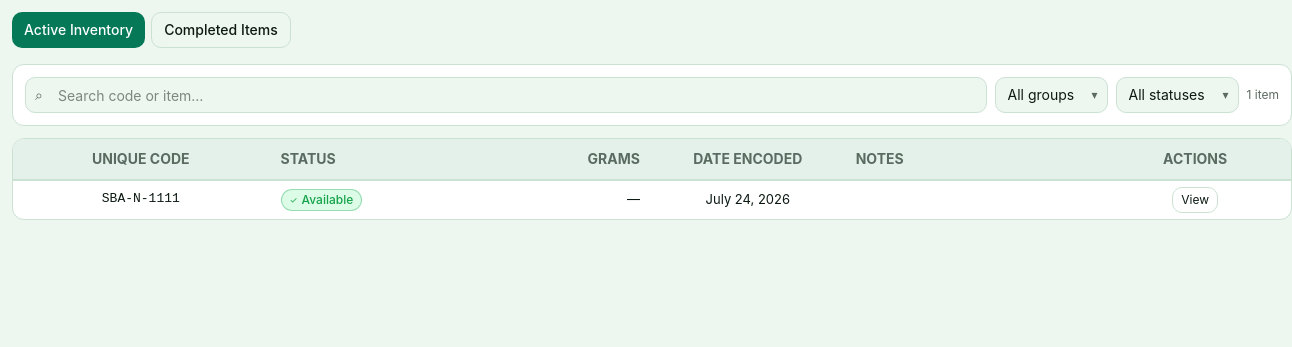
Test: Inventory — Active vs Completed › Completed Items shows the sold/released items (historical)
Step 1. Click the tab "Completed Items" → (221, 30), box [151, 12, 291, 48]
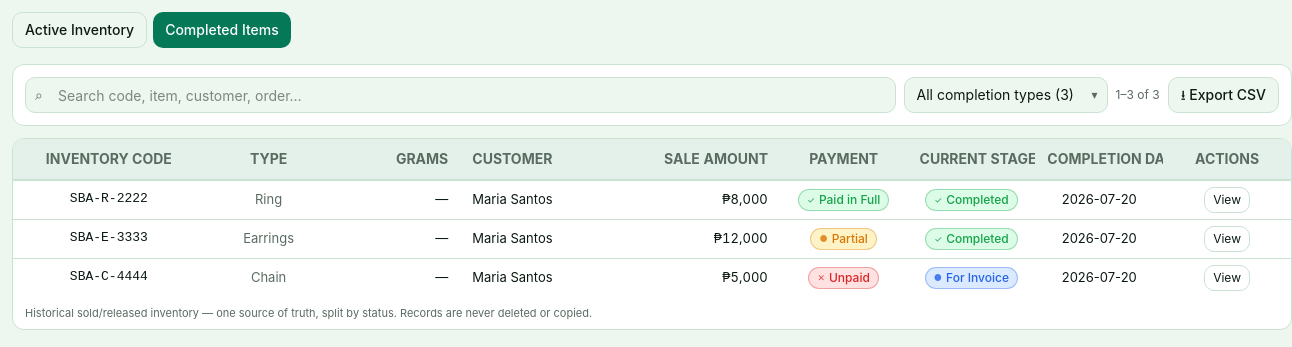
Check: the text "SBA-R-2222" is shown, box [13, 180, 205, 219]
Check: the text "SBA-E-3333" is shown, box [13, 219, 205, 258]
Check: the text "SBA-N-1111" is gone
